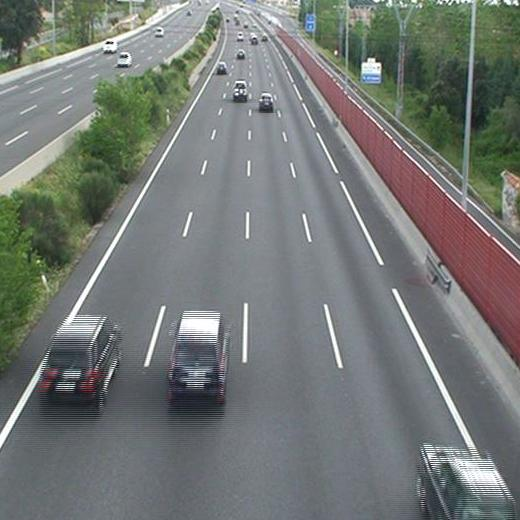car: (417, 445, 515, 520), (40, 316, 117, 397), (169, 310, 227, 393), (232, 81, 247, 98), (260, 93, 274, 110), (216, 62, 226, 72), (236, 50, 245, 59), (250, 36, 257, 45), (237, 32, 244, 40)
